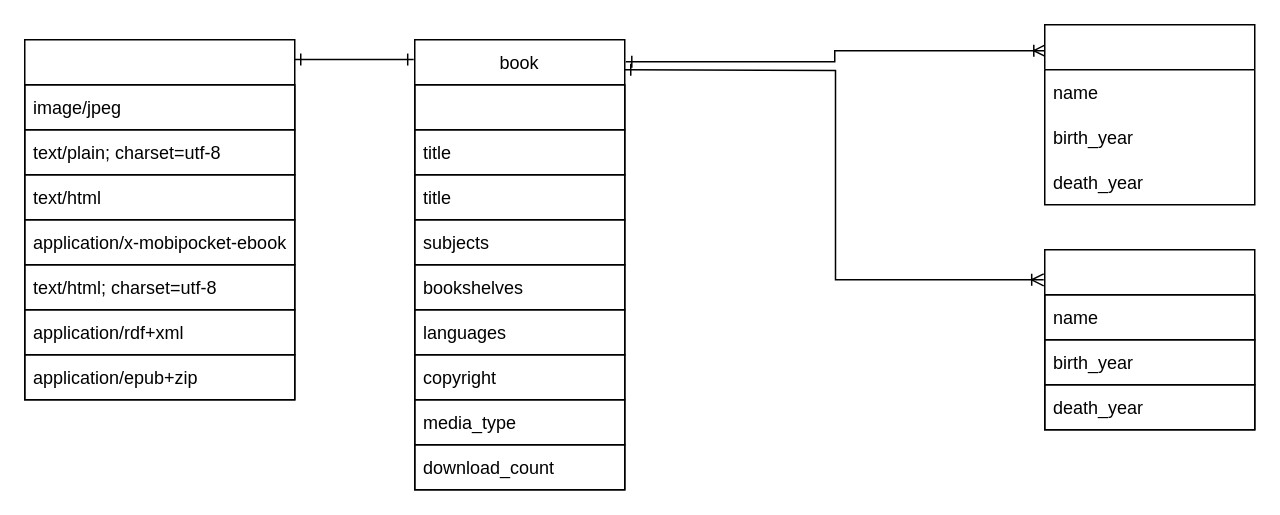
The diagram is 1280 pixels wide and 515 high, and some of its shapes have lost their labels. Each missing label, with the box of its shape:
authors: (1043, 248, 1255, 430)
formats: (23, 38, 295, 400)
id: (413, 83, 625, 130)
translators: (1043, 23, 1255, 205)
